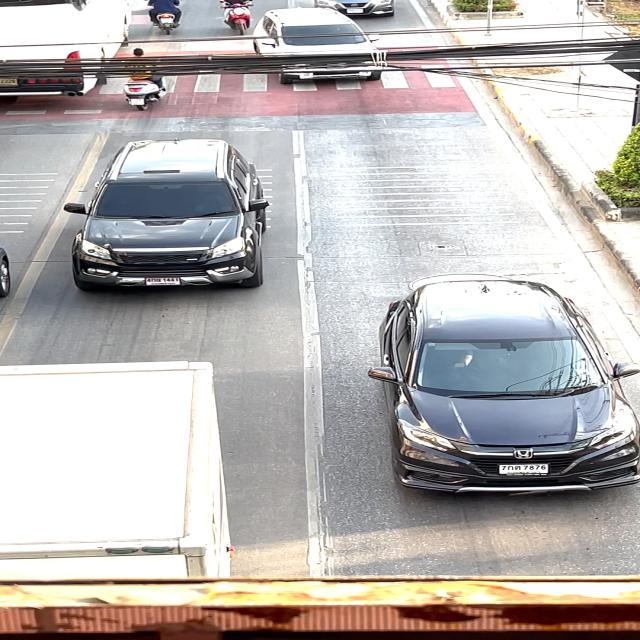car: (356, 272, 640, 505), (0, 357, 247, 578), (55, 130, 284, 307), (242, 2, 394, 85), (298, 0, 416, 16)
